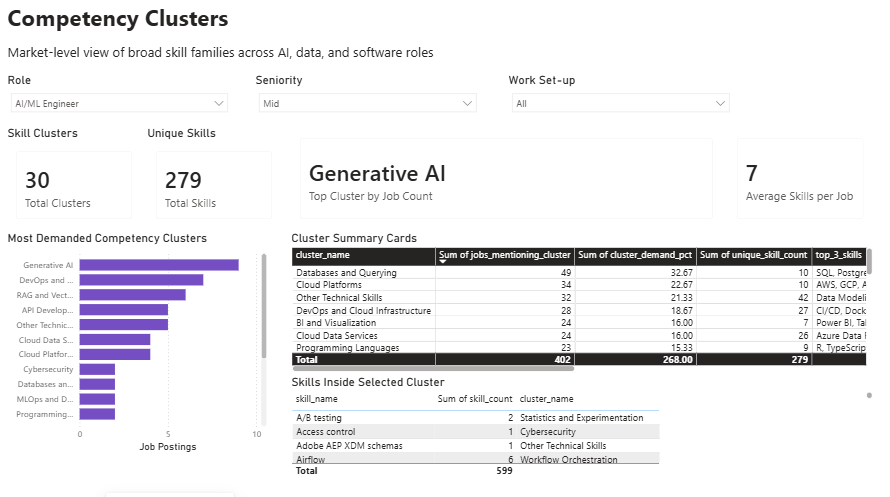

Layout of this report page (visuals, bound fields, positions):
{"tool":"powerbi","page":{"name":"Competency Clusters","canvas":[1280,720],"ordinal":1},"visuals":[{"type":"textbox","box":[10.1,0,354.4,58.8],"z":0},{"type":"textbox","box":[10.1,58.8,650.1,47],"z":1000},{"type":"slicer","title":"Role","fields":{"Values":["jobs_enriched.standardized_role"]},"box":[9.9,107,330,75.3],"z":2000},{"type":"slicer","title":"Seniority","fields":{"Values":["jobs_enriched.seniority_level_for_scoring"]},"box":[364.6,107,330.9,75.3],"z":3000},{"type":"slicer","title":"Work Set-up","fields":{"Values":["jobs_enriched.work_setup_final"]},"box":[725.2,107,330.9,75.3],"z":4000},{"type":"cardVisual","title":"Skill Clusters","fields":{"Data":["_Measures.Total Clusters"]},"box":[9.9,182.3,200,150.6],"z":5000},{"type":"cardVisual","fields":{"Data":["_Measures.Top Cluster by Job Count"]},"box":[416.1,182.3,624.1,150.6],"z":6000},{"type":"cardVisual","title":"Unique Skills","fields":{"Data":["_Measures.Total Skills"]},"box":[210,182.3,200.1,150.6],"z":7000},{"type":"cardVisual","fields":{"Data":["_Measures.Average Skills per Job"]},"box":[1040.2,182.3,216,150.6],"z":8000},{"type":"clusteredBarChart","title":"Most Demanded Competency Clusters","fields":{"Category":["clusters.cluster_name"],"Y":["_Measures.Jobs Mentioning Selected Cluster"]},"box":[9.9,332.9,380.4,321],"z":9000},{"type":"tableEx","title":"Cluster Summary Cards","fields":{"Values":["cluster_cards.cluster_name","Sum(cluster_cards.jobs_mentioning_cluster)","Sum(cluster_cards.cluster_demand_pct)","Sum(cluster_cards.unique_skill_count)","cluster_cards.top_3_skills","Sum(cluster_cards.universality_score)","cluster_cards.strongest_role","Sum(cluster_cards.cluster_priority_rank)"]},"box":[416.1,332.9,840.1,206.1],"z":10000},{"type":"tableEx","title":"Skills Inside Selected Cluster","fields":{"Values":["skills.skill_name","Sum(skills.skill_count)","skills.cluster_name"]},"box":[416.1,538.9,840.1,150.6],"z":11000}]}

Visuals, with their boxes in screenshot pixels (x1, y1, x2, y2), scaled from the page's 1280x720 canvas onto the 890x497 screenshot:
textbox: x1=7, y1=0, x2=253, y2=41
textbox: x1=7, y1=41, x2=459, y2=73
"Role" slicer: x1=7, y1=74, x2=236, y2=126
"Seniority" slicer: x1=254, y1=74, x2=484, y2=126
"Work Set-up" slicer: x1=504, y1=74, x2=734, y2=126
"Skill Clusters" cardVisual: x1=7, y1=126, x2=146, y2=230
cardVisual - _Measures.Top Cluster by Job Count: x1=289, y1=126, x2=723, y2=230
"Unique Skills" cardVisual: x1=146, y1=126, x2=285, y2=230
cardVisual - _Measures.Average Skills per Job: x1=723, y1=126, x2=873, y2=230
"Most Demanded Competency Clusters" clusteredBarChart: x1=7, y1=230, x2=271, y2=451
"Cluster Summary Cards" tableEx: x1=289, y1=230, x2=873, y2=372
"Skills Inside Selected Cluster" tableEx: x1=289, y1=372, x2=873, y2=476
